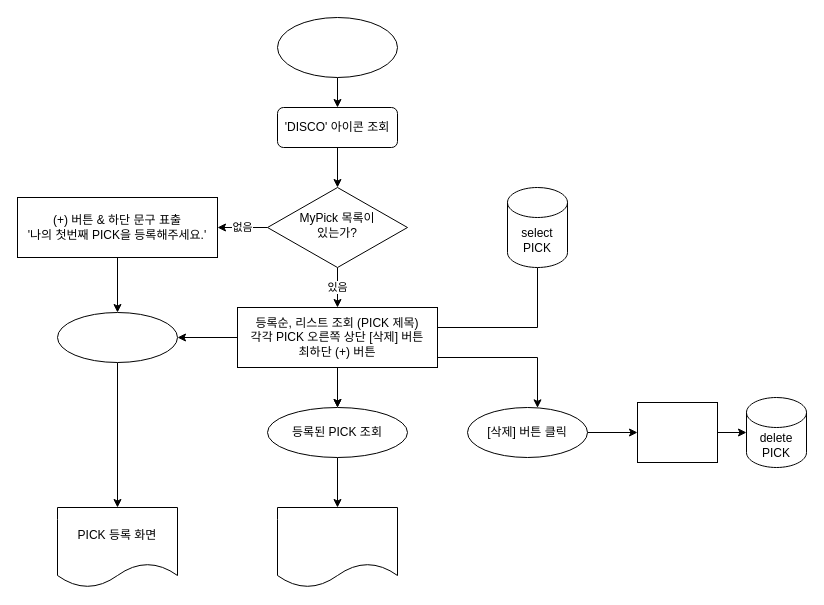
Some shapes in this 824 by 605 pixel diagram are drawn without their labels. Here are the shapes that lost their labels. From the top down, the centre of each, then its label:
[337,47]: 쇼핑몰 메인화면
[117,337]: (+) 버튼 클릭
[677,432]: PICK 삭제
[337,547]: PICK 추천 결과 화면
